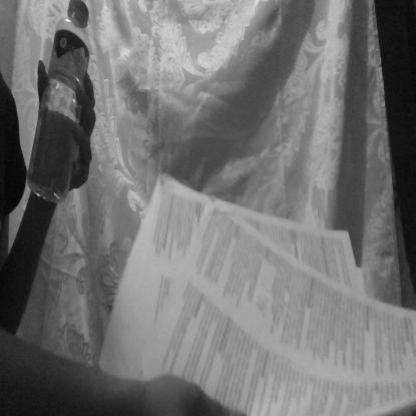Plastic Bottle: (25, 4, 95, 204)
